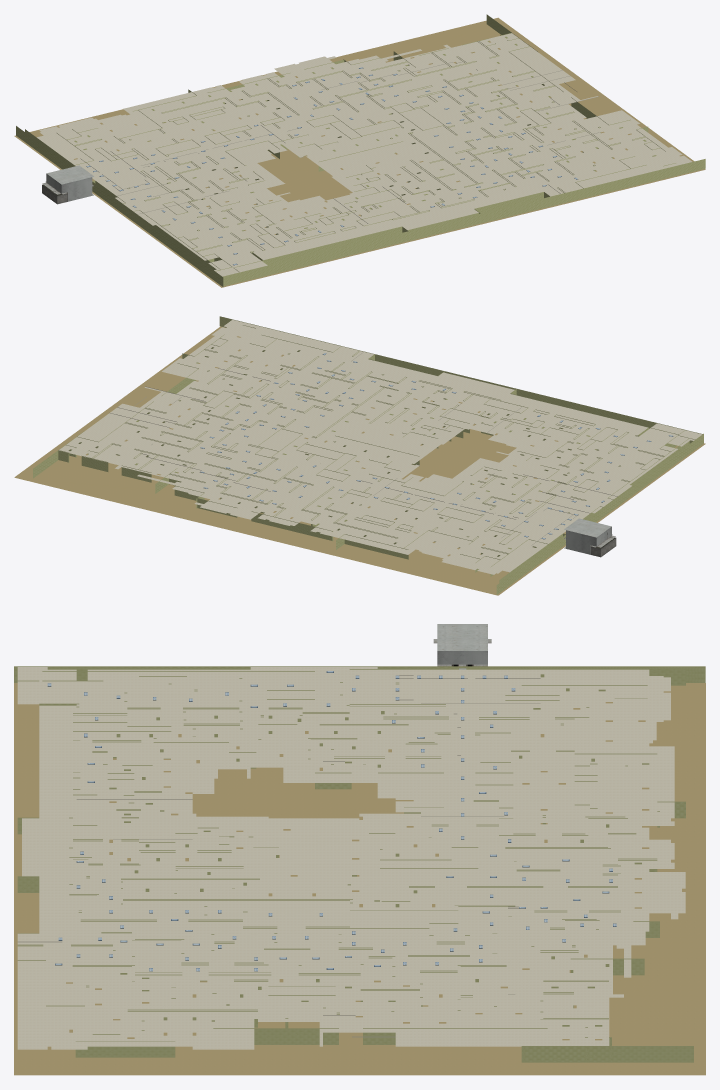
The model's file is course.dae.
3 renders of one model, top to bottom at view 1: azimuth 30°, elevation 25°; view 2: azimuth 150°, elevation 25°; view 3: azimuth 270°, elevation 25°, orthographic. The views are drawn at different scales.
Visible parts, largest first — view 1: ceiling_backrooms, wall_backrooms, floor_carpet, wall_concrete, ceiling_hull; view 2: ceiling_backrooms, wall_backrooms, floor_carpet, wall_concrete, ceiling_hull; view 3: ceiling_backrooms, floor_carpet, wall_backrooms, ceiling_hull, wall_concrete.
Part boxes in pixels (x1=…): ceiling_backrooms: x1=37, y1=33, x2=691, y2=276; wall_backrooms: x1=16, y1=14, x2=705, y2=286; floor_carpet: x1=14, y1=17, x2=705, y2=287; wall_concrete: x1=46, y1=173, x2=92, y2=201; ceiling_hull: x1=46, y1=165, x2=93, y2=184; ceiling_backrooms: x1=59, y1=319, x2=702, y2=574; wall_backrooms: x1=33, y1=316, x2=703, y2=594; floor_carpet: x1=14, y1=326, x2=705, y2=595; wall_concrete: x1=566, y1=526, x2=611, y2=554; ceiling_hull: x1=564, y1=518, x2=611, y2=537; ceiling_backrooms: x1=17, y1=667, x2=685, y2=1049; floor_carpet: x1=14, y1=683, x2=705, y2=1075; wall_backrooms: x1=14, y1=666, x2=705, y2=1062; ceiling_hull: x1=437, y1=624, x2=487, y2=650; wall_concrete: x1=437, y1=651, x2=487, y2=664.
Bounding box in the file's own units: 106510 × 3960 × 73329.
